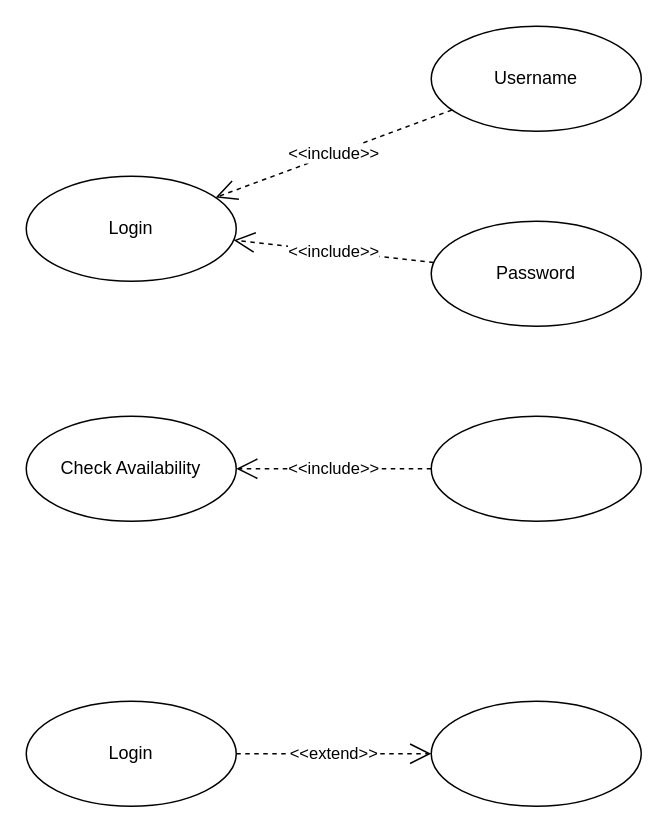
Some shapes in this 668 by 833 pixel diagram are drawn without their labels. Here are the shapes that lost their labels. From the top down, the centre of each, then its label:
At (535,468): "Choose Seats".
At (535,753): "Signup".
